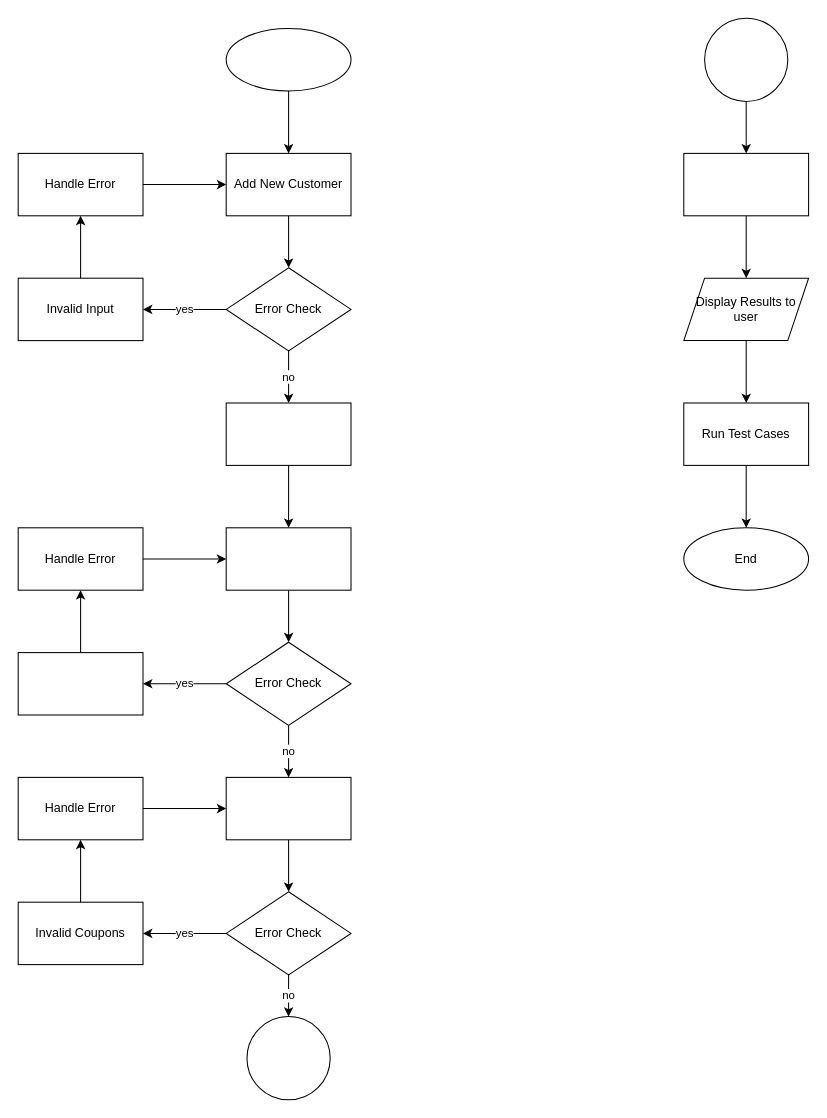
The diagram is 827 pixels wide and 1118 high, and some of its shapes have lost their labels. The shapes that lost their labels are listed below. From the top down, each one's centre as x and y in pixels, then its label:
At pixel 288 59: "start".
At pixel 746 184: "Update Custemer Profile: Update Discounts, Coupons, Bonuses".
At pixel 288 433: "Store In Dictionary".
At pixel 288 558: "Calculate Discount".
At pixel 80 683: "Invalid Discount".
At pixel 288 808: "Identify Eligible Coupons".
